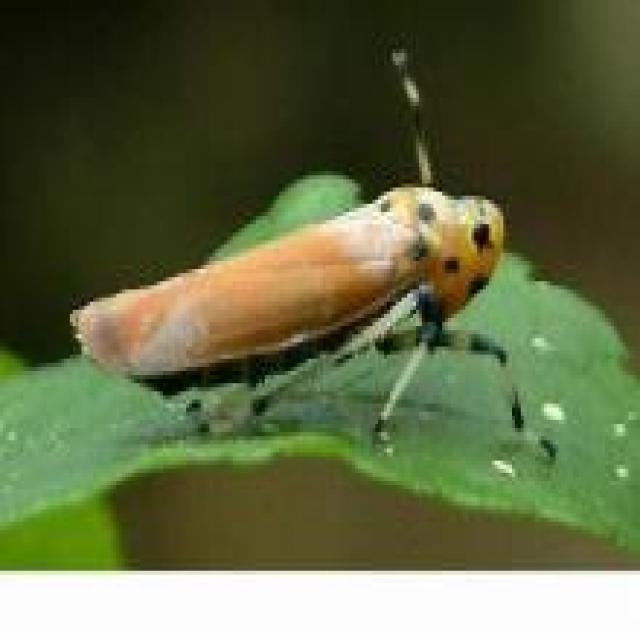Yechan: (45, 173, 524, 445)
